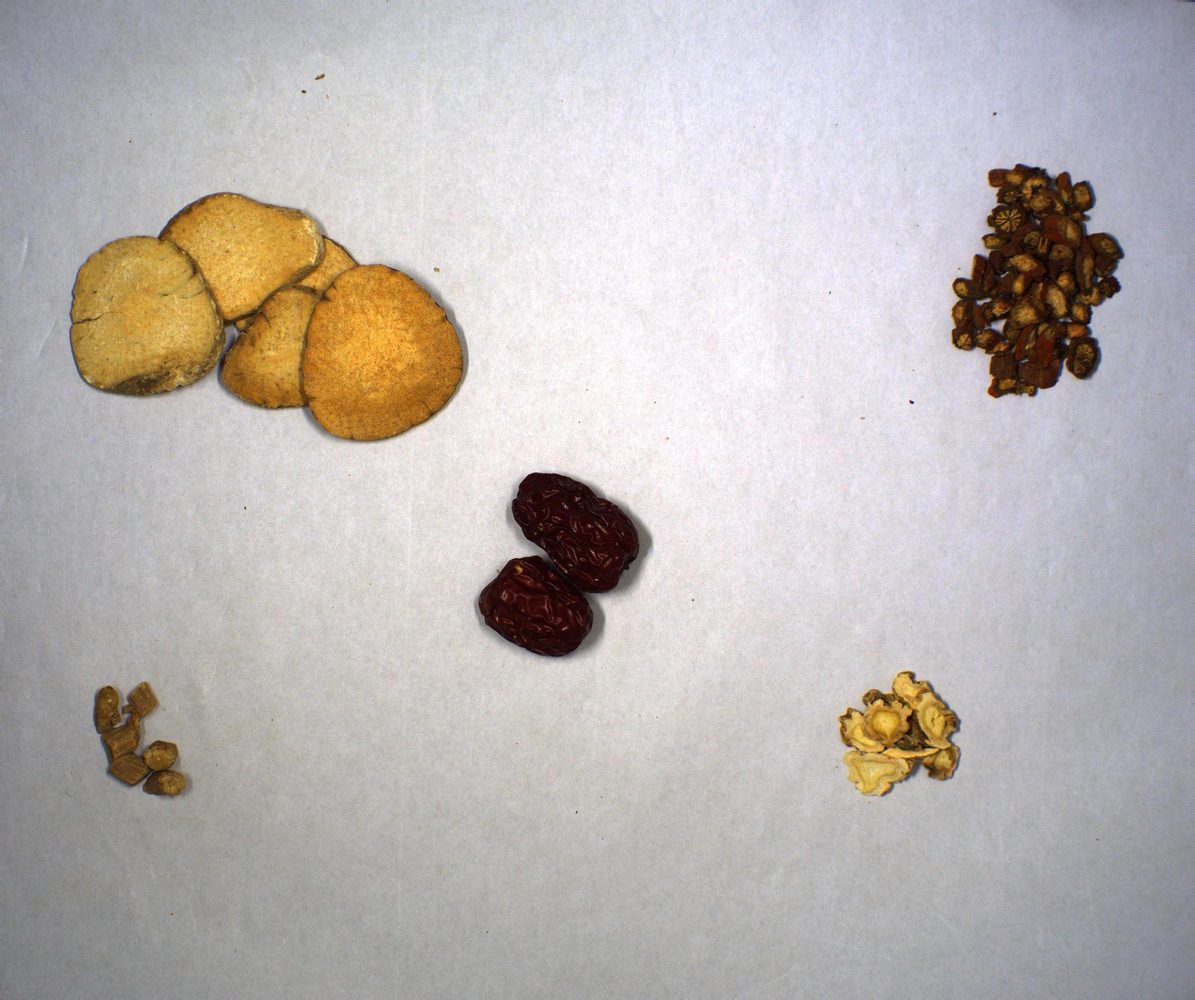danshen: (952, 162, 1123, 400)
dazao: (474, 468, 640, 662)
jiegeng: (840, 672, 962, 797)
niuxi: (89, 681, 191, 801)
zexie: (71, 192, 465, 444)
